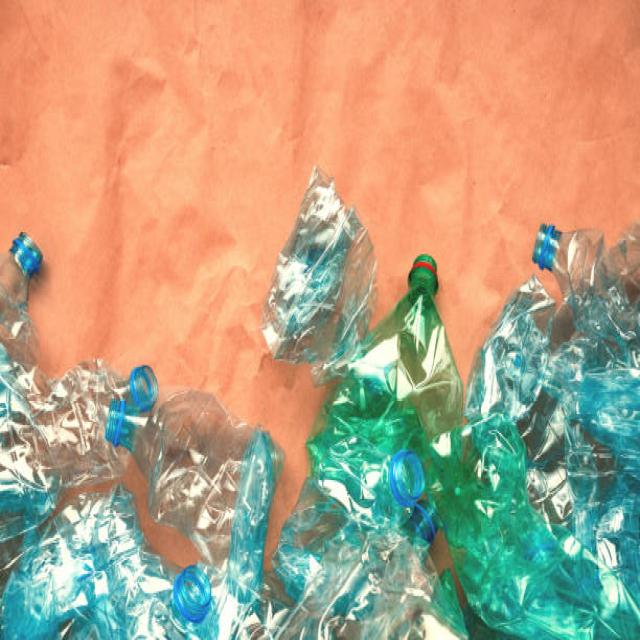plastic: (29, 390, 615, 628)
